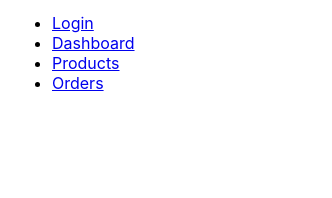
Test case: Redirections and Titles Validations › Visit Dashboard page and check title validation
The width and height of the screenshot is (332, 198).
Click the link to "/dashboard": (94, 43) 52,33 -> 135,53
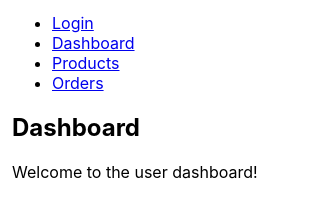
Result: the heading "Dashboard" is shown at 12,113 -> 140,142
Result: the text "Welcome to the user dashboard!" is shown at 12,162 -> 258,182
